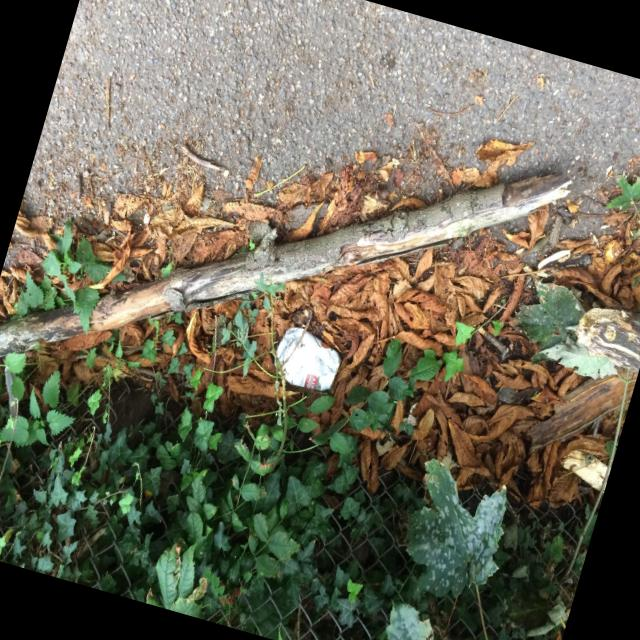less trash: (276, 326, 340, 390)
